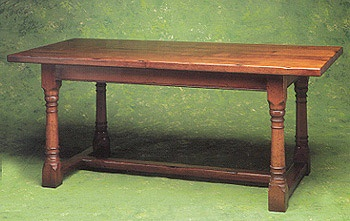obstacle: (7, 39, 342, 211)
